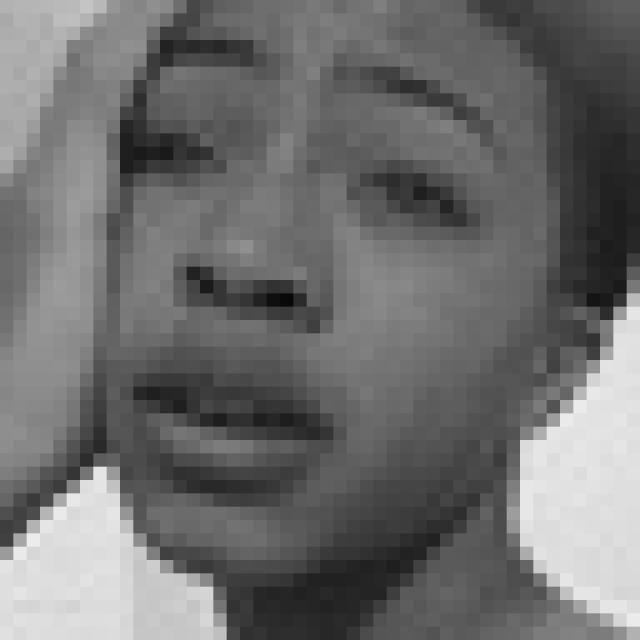sad: (122, 36, 513, 500)
